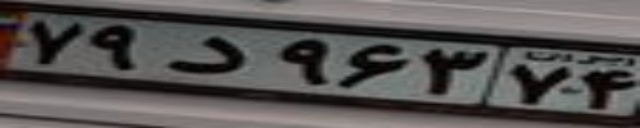3: (422, 46, 487, 95)
4: (581, 67, 634, 110)
6: (337, 41, 409, 88)
7: (508, 61, 571, 105), (26, 19, 83, 67)
9: (274, 37, 325, 86), (90, 23, 135, 72)
dal: (160, 33, 249, 74)
